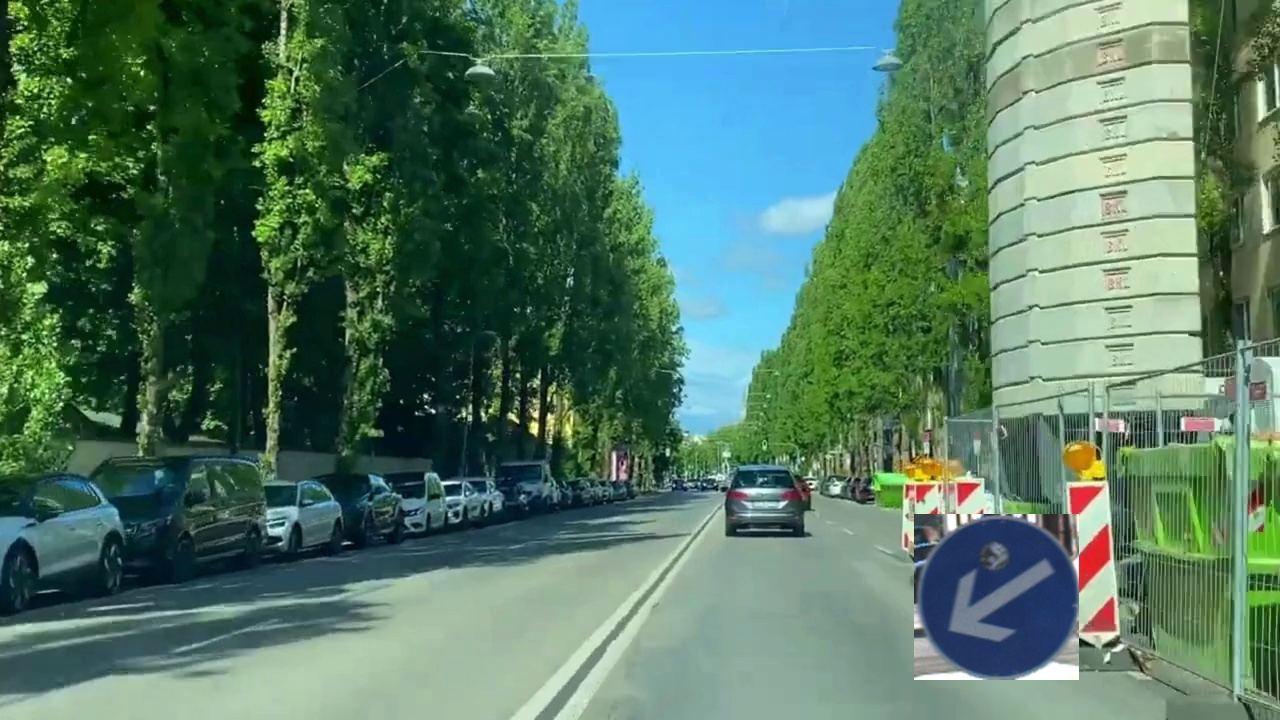Keep left: (914, 514, 1079, 680)
